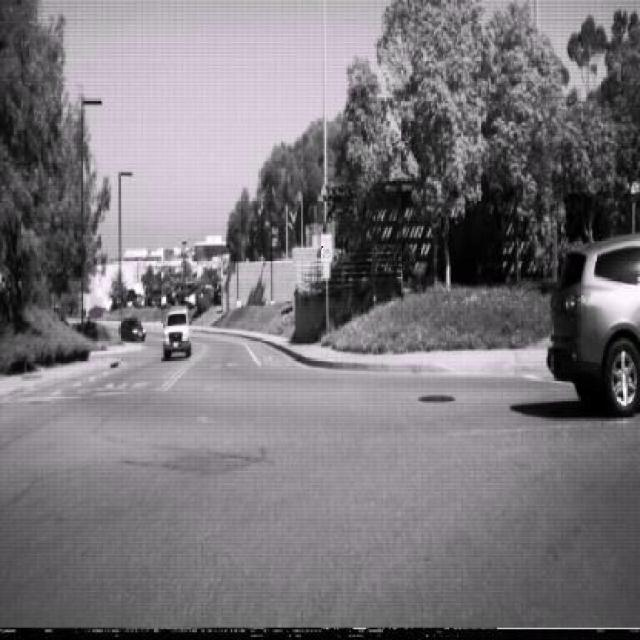speedLimit25: (320, 234, 332, 261)
